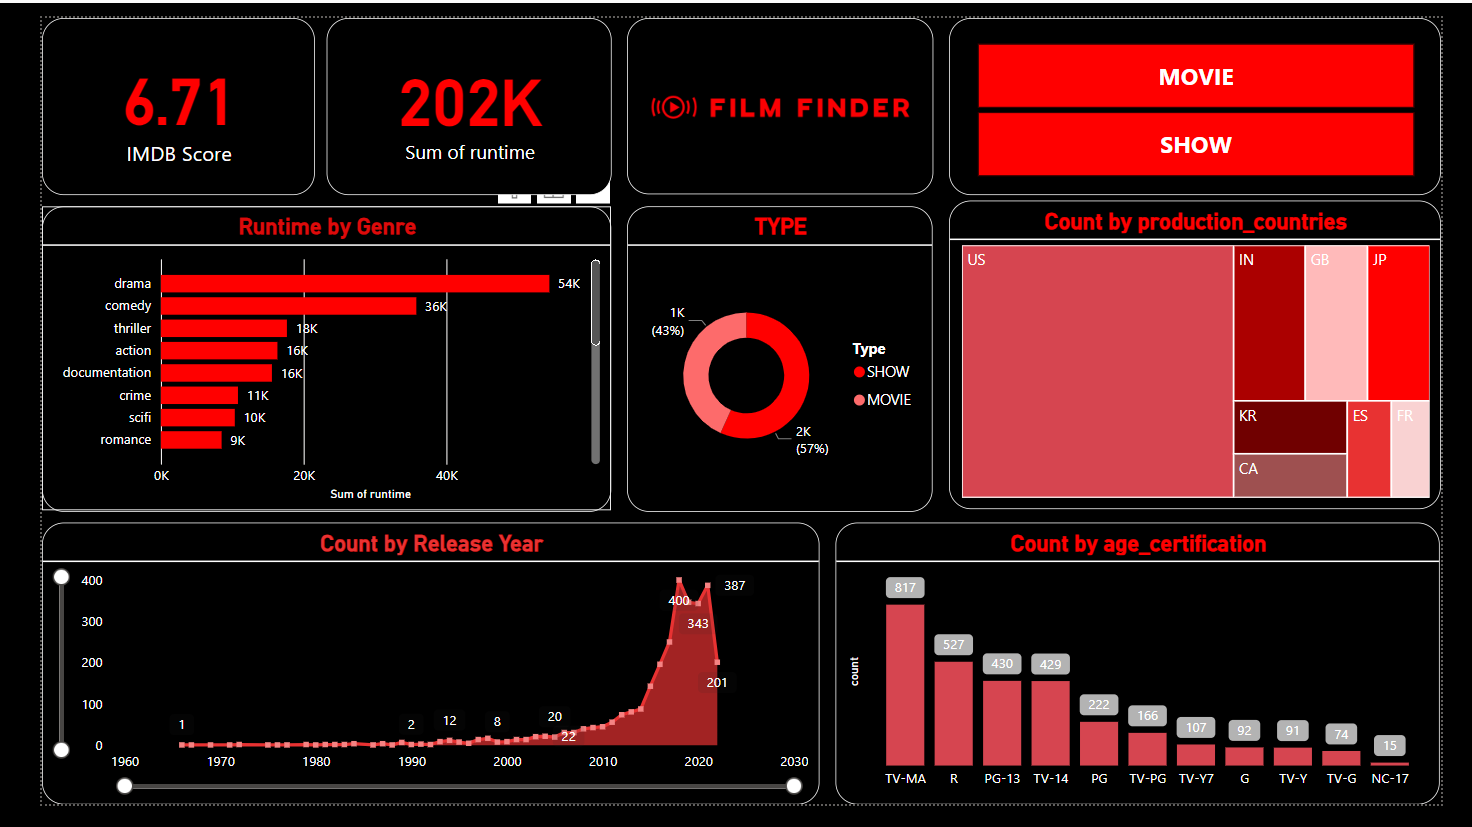

This screenshot's page, from the dashboard's own definition file:
{"tool":"powerbi","page":{"name":"Page 1","canvas":[1280,720],"ordinal":0},"visuals":[{"type":"donutChart","title":"TYPE","fields":{"Category":["genres.Type"],"Y":["genres.count"]},"box":[535.2,171.8,279.7,279.7],"z":0},{"type":"clusteredBarChart","title":"Runtime by Genre","fields":{"Category":["genres.genre"],"Y":["Sum(genres.runtime)"]},"box":[0,171.8,521.1,279.7],"z":1000},{"type":"lineStackedColumnComboChart","title":"Count by age_certification","fields":{"Category":["genres.age_certification"],"Y":["genres.count"]},"box":[726.7,461.7,553.3,258.3],"z":2000},{"type":"treemap","title":"Count by production_countries","fields":{"Group":["genres.production_countries"],"Values":["genres.count"]},"box":[830.6,167.5,450.2,282.7],"z":3000},{"type":"card","fields":{"Values":["genres.IMDB Score"]},"box":[0,0,249.5,162.3],"z":4000},{"type":"card","fields":{"Values":["Sum(genres.runtime)"]},"box":[260.9,0,260.9,162],"z":5000},{"type":"slicer","fields":{"Values":["genres.Type"]},"box":[830.8,0,450.4,162],"z":6000},{"type":"areaChart","title":"Count by Release Year","fields":{"Category":["genres.release_year"],"Y":["genres.count"]},"box":[0,461.7,711.7,258.3],"z":7000},{"type":"image","box":[535,0,280,161.7],"z":8000}]}

Visuals, with their boxes in screenshot pixels (x1, y1, x2, y2), scaled from the page's 1280x720 canvas onto the 1472x827 screenshot:
"TYPE" donutChart: (left=615, top=197, right=937, bottom=519)
"Runtime by Genre" clusteredBarChart: (left=0, top=197, right=599, bottom=519)
"Count by age_certification" lineStackedColumnComboChart: (left=836, top=530, right=1471, bottom=826)
"Count by production_countries" treemap: (left=955, top=192, right=1471, bottom=517)
card - genres.IMDB Score: (left=0, top=0, right=287, bottom=186)
card - Sum(genres.runtime): (left=300, top=0, right=600, bottom=186)
slicer - genres.Type: (left=955, top=0, right=1471, bottom=186)
"Count by Release Year" areaChart: (left=0, top=530, right=818, bottom=826)
image: (left=615, top=0, right=937, bottom=186)
